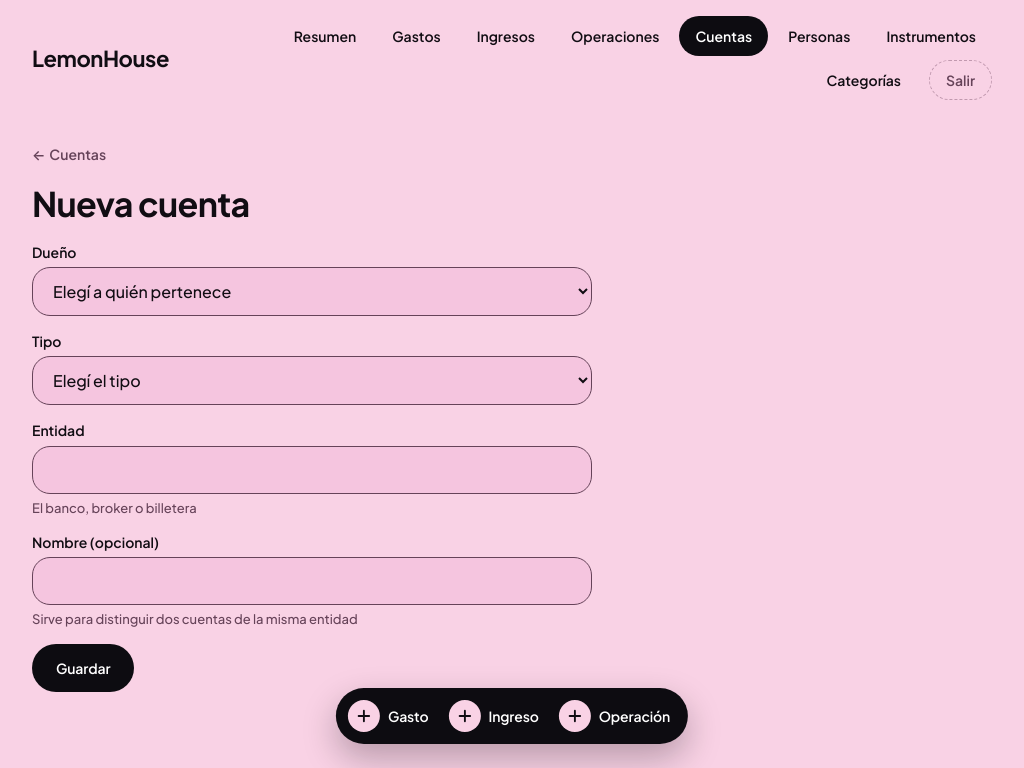
Scenario: cuentas › se carga una cuenta y aparece con su dueño, sin nombre si no se pone
Select "Beto" in the dropdown labelled "Dueño" at point(312, 292), box x1=32 y1=267 x2=592 y2=316
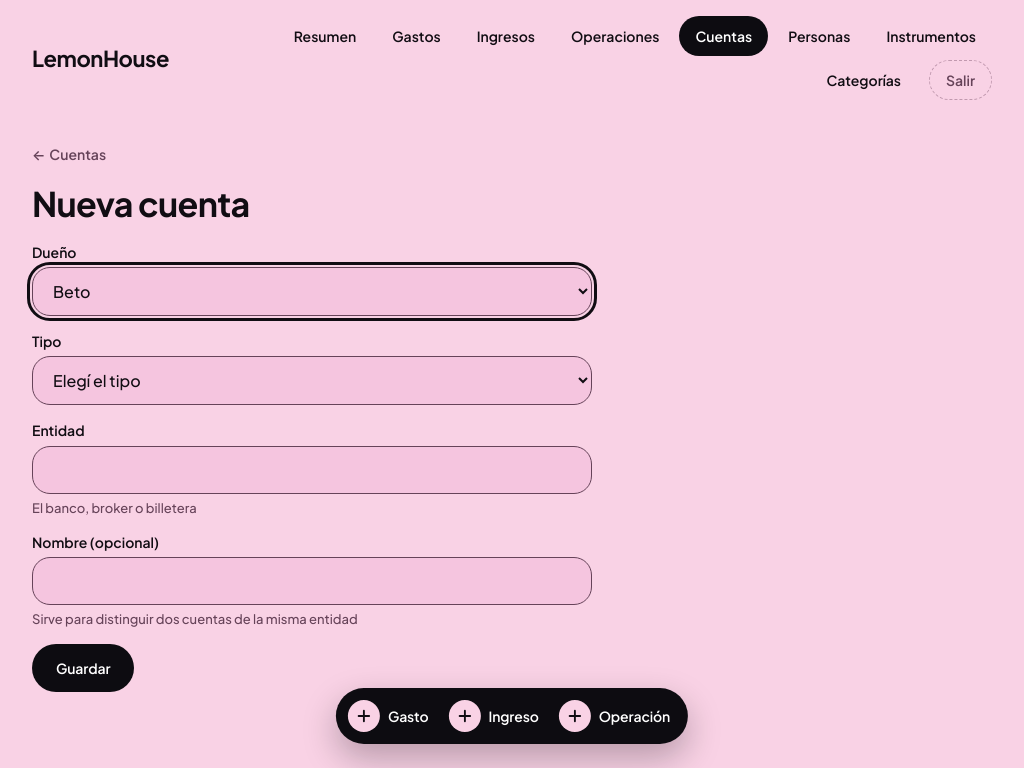
Select "Billetera" in the dropdown labelled "Tipo" at point(312, 381), box x1=32 y1=356 x2=592 y2=406
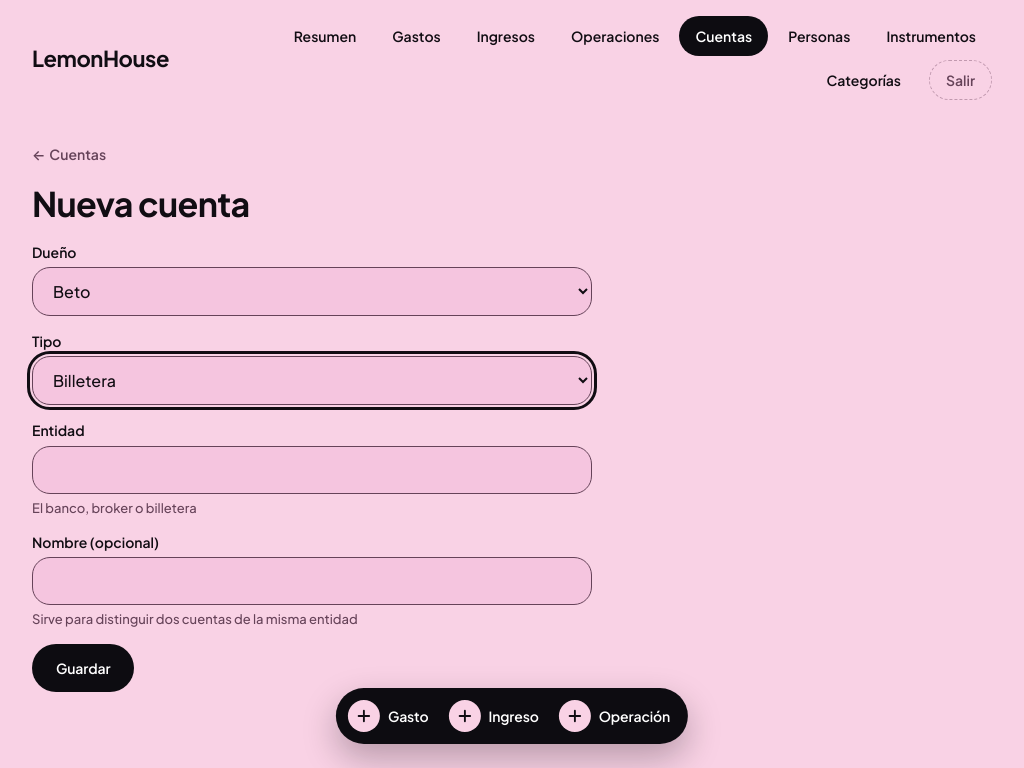
Type "  Billetera Dos " into the field labelled "Entidad" at point(312, 470), box x1=32 y1=446 x2=592 y2=494
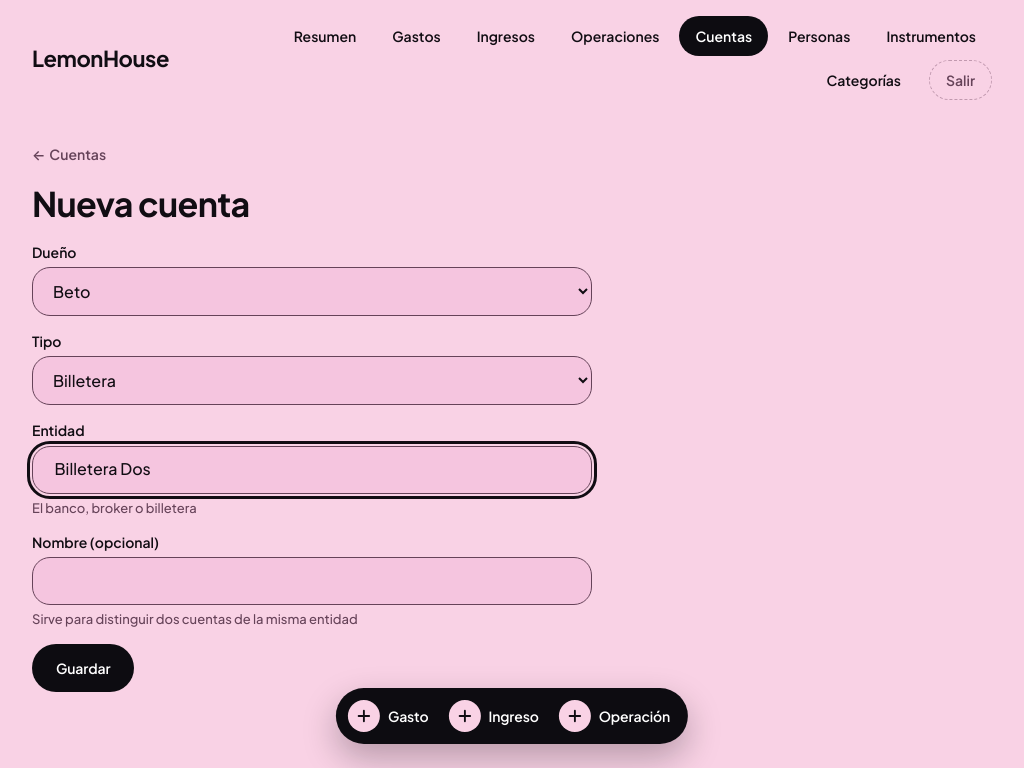
Click the button "Guardar" at point(83, 668), box x1=32 y1=644 x2=134 y2=692
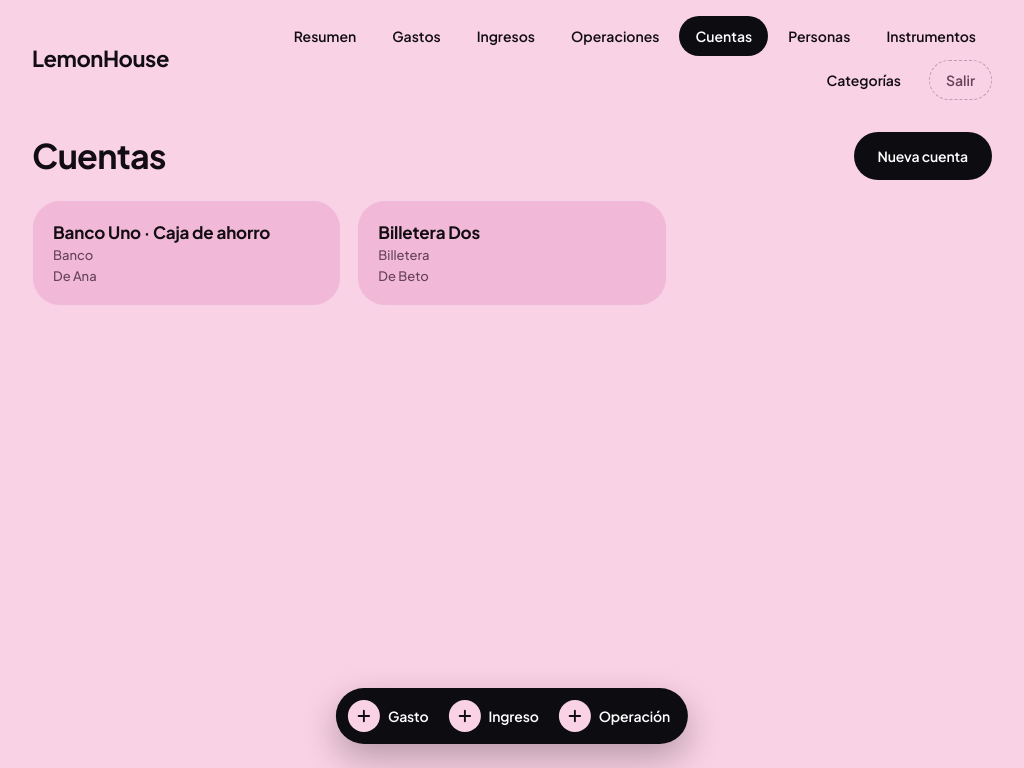
Expected: the link "Billetera Dos Billetera De Beto" is shown, x1=357 y1=200 x2=667 y2=306
